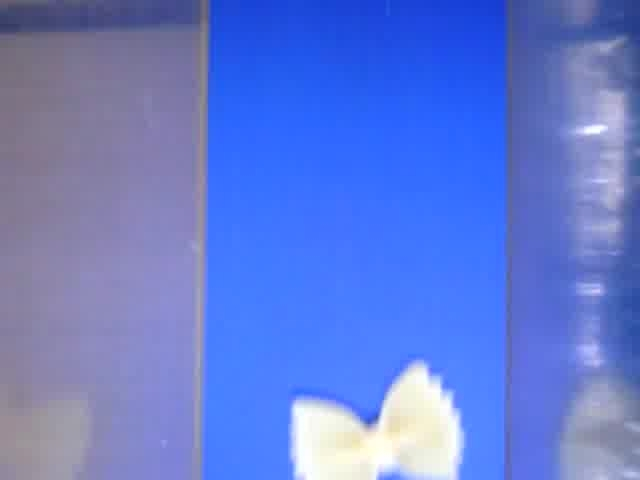farfalle: (289, 359, 466, 480)
